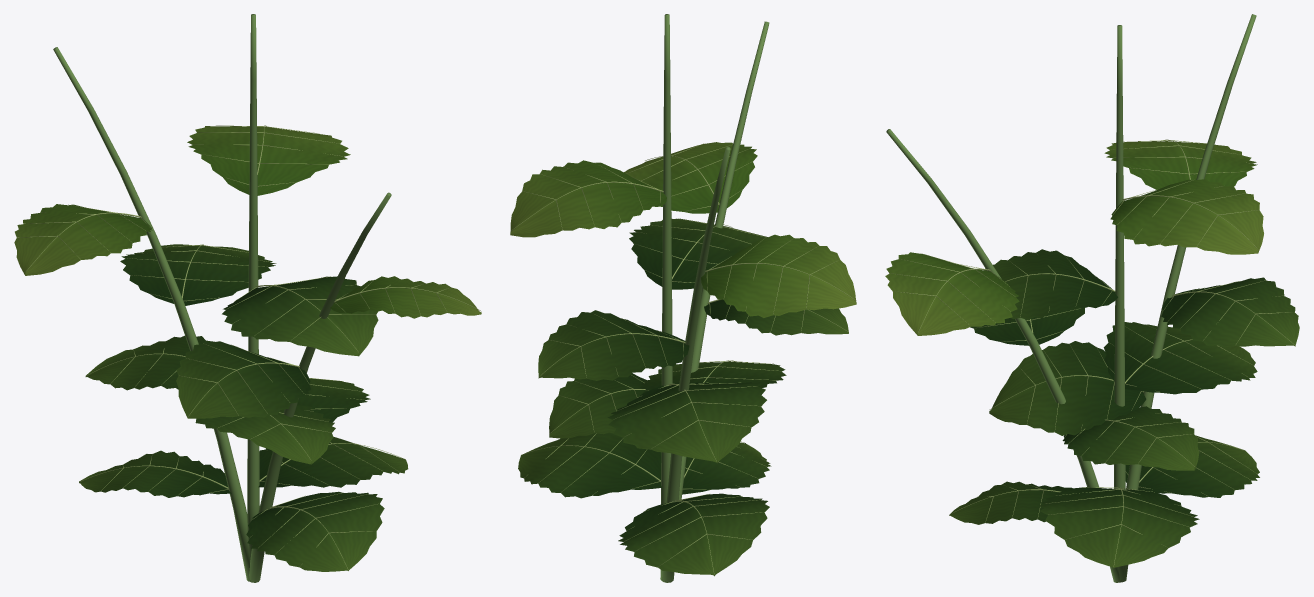
The model's file is hydrangea-06.glb.
The picture shows the model from 3 angles, left to right: view 1: azimuth 30°, elevation 25°; view 2: azimuth 150°, elevation 25°; view 3: azimuth 270°, elevation 25°; orthographic projection.
Parts seen in each view (by area): view 1: hydrangea_stage_06_leaf_veins.010, hydrangea_stage_06_young_leaf.010, hydrangea_stage_06_stem_fibres.010, hydrangea_stage_06_raised_midveins.010; view 2: hydrangea_stage_06_leaf_veins.010, hydrangea_stage_06_young_leaf.010, hydrangea_stage_06_stem_fibres.010, hydrangea_stage_06_raised_midveins.010; view 3: hydrangea_stage_06_leaf_veins.010, hydrangea_stage_06_young_leaf.010, hydrangea_stage_06_stem_fibres.010, hydrangea_stage_06_raised_midveins.010.
Boxes of the visible parts, left/top/right/bottom form: hydrangea_stage_06_leaf_veins.010: left=79, top=244, right=408, bottom=571; hydrangea_stage_06_young_leaf.010: left=14, top=126, right=481, bottom=318; hydrangea_stage_06_stem_fibres.010: left=53, top=14, right=391, bottom=582; hydrangea_stage_06_raised_midveins.010: left=17, top=125, right=481, bottom=570; hydrangea_stage_06_leaf_veins.010: left=518, top=218, right=848, bottom=576; hydrangea_stage_06_young_leaf.010: left=510, top=142, right=856, bottom=317; hydrangea_stage_06_stem_fibres.010: left=660, top=14, right=769, bottom=582; hydrangea_stage_06_raised_midveins.010: left=510, top=143, right=856, bottom=574; hydrangea_stage_06_leaf_veins.010: left=949, top=249, right=1299, bottom=568; hydrangea_stage_06_young_leaf.010: left=885, top=141, right=1263, bottom=335; hydrangea_stage_06_stem_fibres.010: left=886, top=14, right=1256, bottom=582; hydrangea_stage_06_raised_midveins.010: left=889, top=139, right=1295, bottom=567.
Bounding box in the file's own units: 0.2447 × 0.369 × 0.2497.
4 materials, 2 textured.
